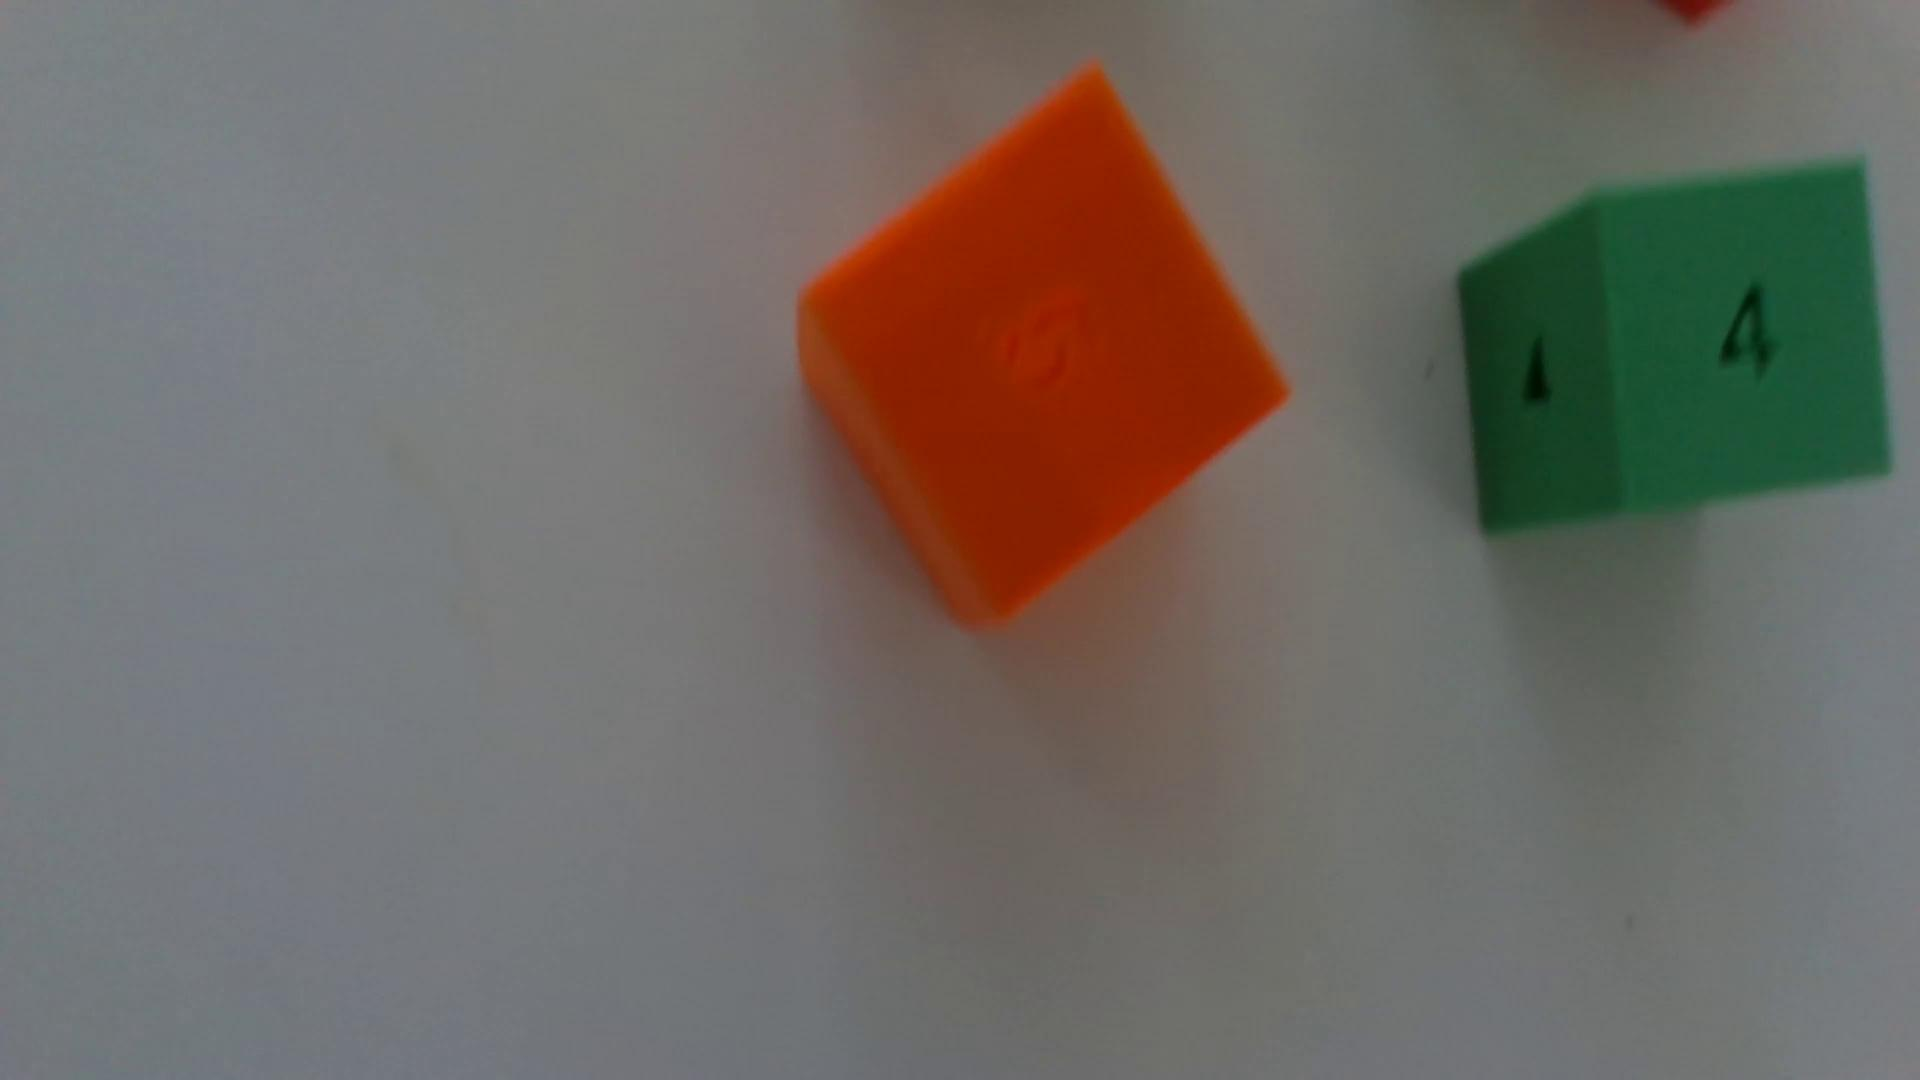green: (1460, 161, 1894, 534)
orange: (796, 69, 1288, 628)
red: (1658, 0, 1727, 26)
